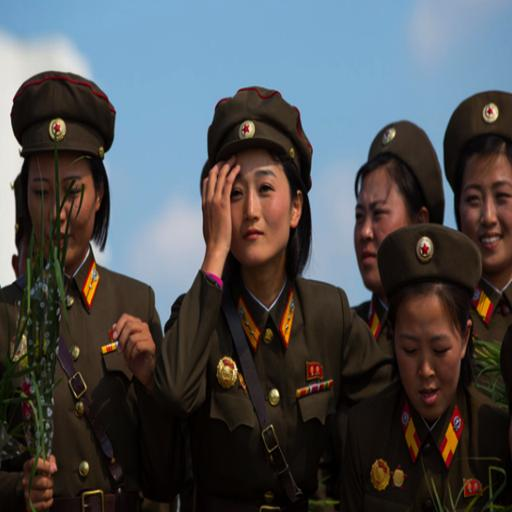north army: (12, 59, 512, 481)
